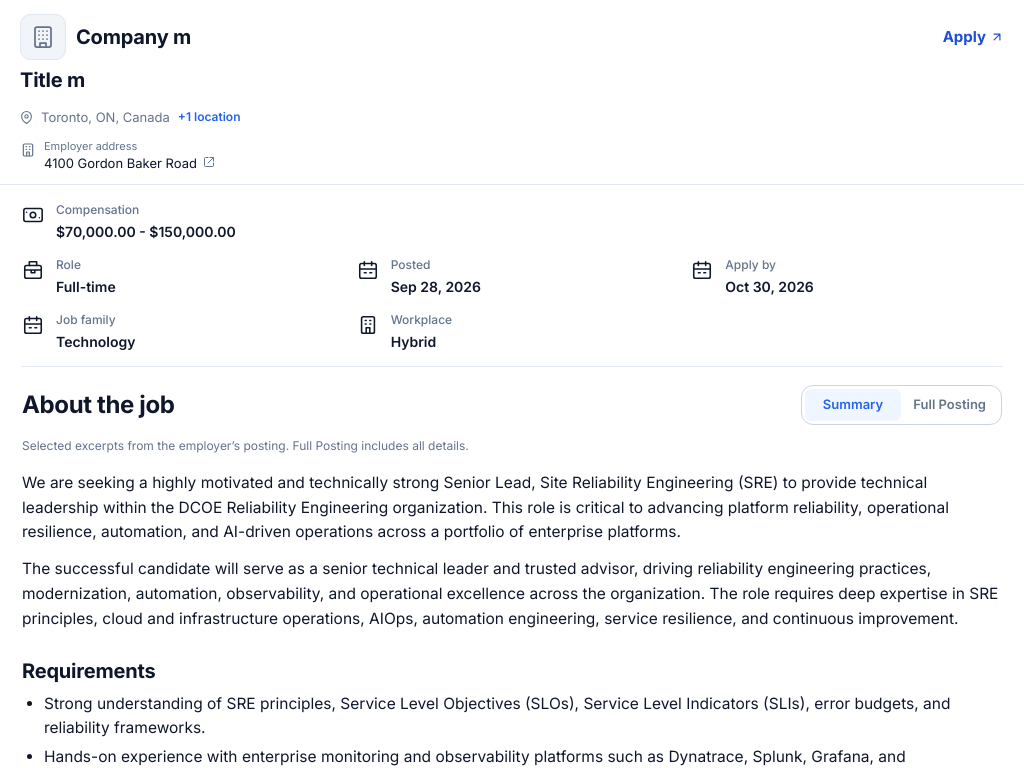
it: per-job choices do not leak between jobs › multiple locations and their toggle still work next to location details
Click the button "+1 location" at (209, 117), box [178,101,240,133]
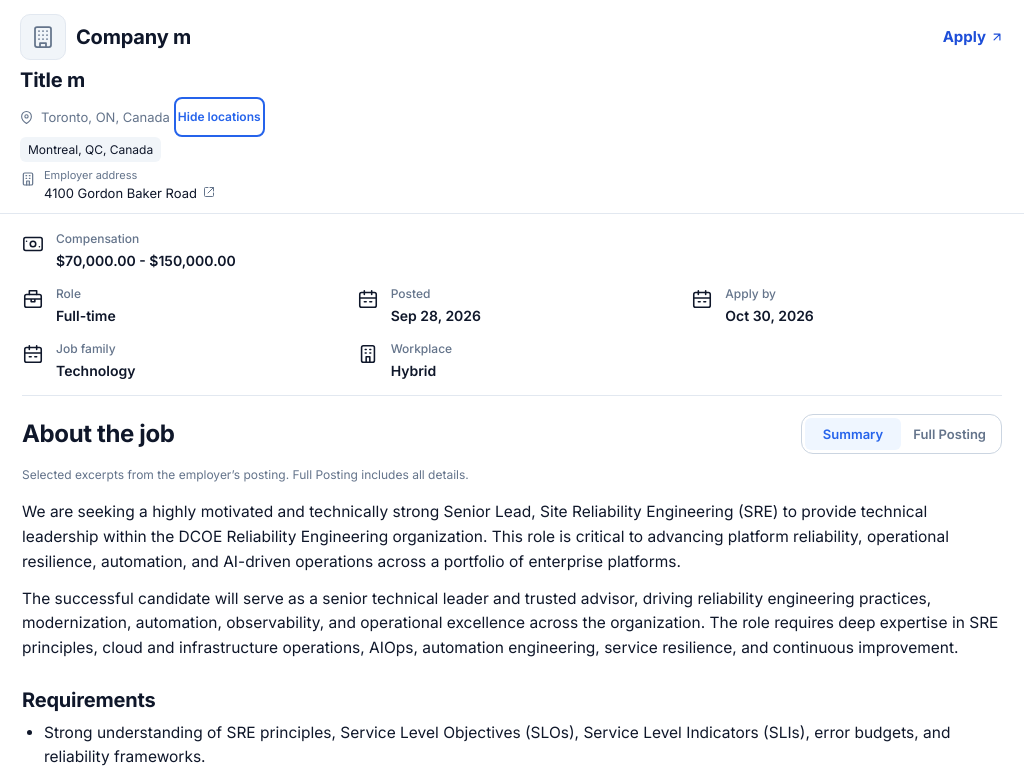
Expected: the element "Employer address" is shown, [20,168,215,203]
Expected: the list named "Additional locations" shows "Montreal", [28,142,153,157]
